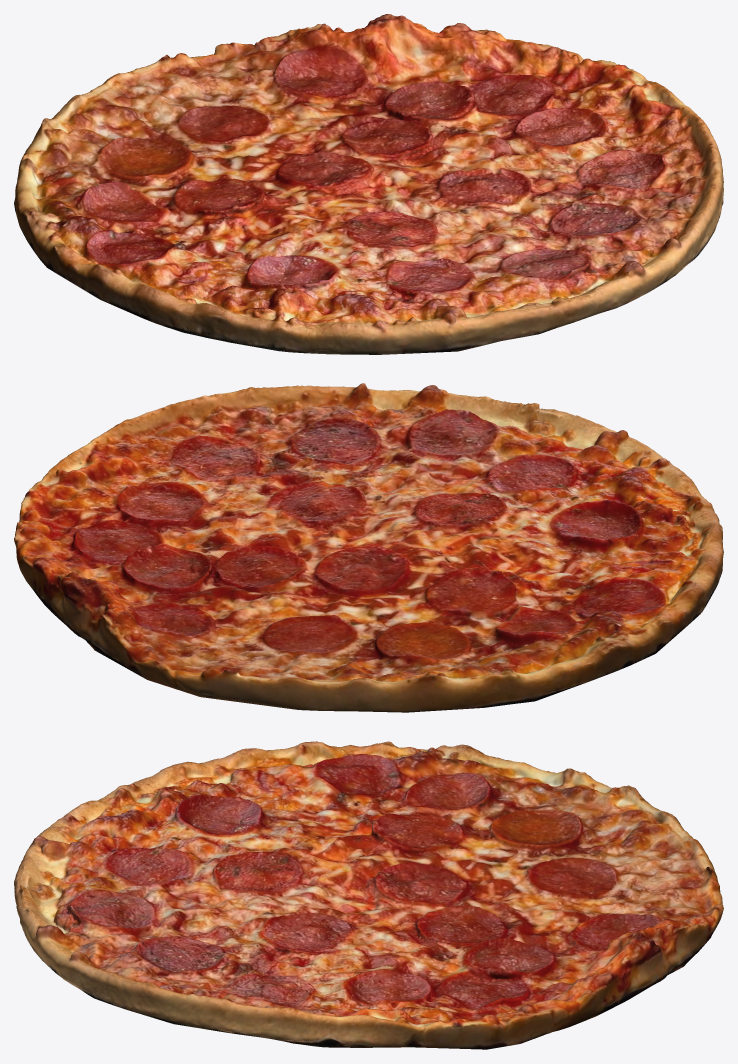
The model's file is pizza-salame-mobile.glb.
The picture shows the model from 3 angles, top to bottom: view 1: azimuth 30°, elevation 25°; view 2: azimuth 150°, elevation 25°; view 3: azimuth 270°, elevation 25°; orthographic projection.
Visible parts, largest first — view 1: Object_4; view 2: Object_4; view 3: Object_4.
Part boxes in pixels (x1,y1,x2,y2): Object_4: (14, 14, 723, 354); Object_4: (14, 383, 723, 712); Object_4: (14, 741, 723, 1049).
Size of the model in its own units: 0.3436 by 0.0288 by 0.349.
1 material, 1 textured.
